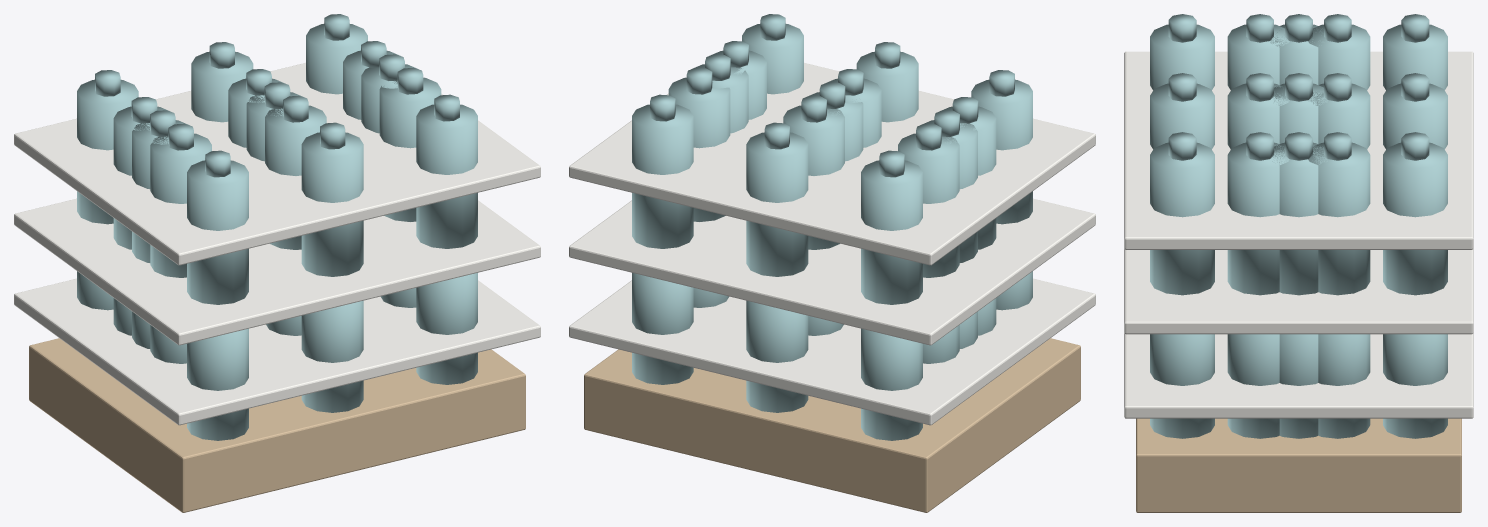
File: Gear04.fbx
The picture shows the model from 3 angles, left to right: view 1: azimuth 30°, elevation 25°; view 2: azimuth 150°, elevation 25°; view 3: azimuth 270°, elevation 25°; orthographic projection. The views are drawn at different scales.
Visible parts, largest first — view 1: Gear04_V10_Paper, Gear04_V10_Blue, Gear04_V1_Oak, Gear04_V1_Blue, Gear04_V5_Blue; view 2: Gear04_V10_Paper, Gear04_V10_Blue, Gear04_V1_Oak, Gear04_V1_Blue, Gear04_V5_Blue; view 3: Gear04_V10_Blue, Gear04_V10_Paper, Gear04_V1_Oak, Gear04_V5_Blue, Gear04_V1_Blue, Gear04_V4_Blue.
Part boxes in pixels (x1,y1,x2,y2): Gear04_V10_Paper: (14, 63, 540, 425); Gear04_V10_Blue: (77, 14, 477, 363); Gear04_V1_Oak: (29, 338, 525, 512); Gear04_V1_Blue: (77, 271, 477, 440); Gear04_V5_Blue: (132, 54, 418, 262); Gear04_V10_Paper: (569, 63, 1095, 425); Gear04_V10_Blue: (632, 14, 1032, 363); Gear04_V1_Oak: (584, 338, 1080, 512); Gear04_V1_Blue: (632, 271, 1032, 440); Gear04_V5_Blue: (691, 54, 977, 262); Gear04_V10_Blue: (1150, 14, 1447, 438); Gear04_V10_Paper: (1124, 51, 1473, 418); Gear04_V1_Oak: (1136, 418, 1461, 512); Gear04_V5_Blue: (1269, 14, 1328, 295); Gear04_V1_Blue: (1150, 334, 1447, 438); Gear04_V4_Blue: (1279, 334, 1318, 438).
Size of the model in its own units: 95 by 82 by 75.
